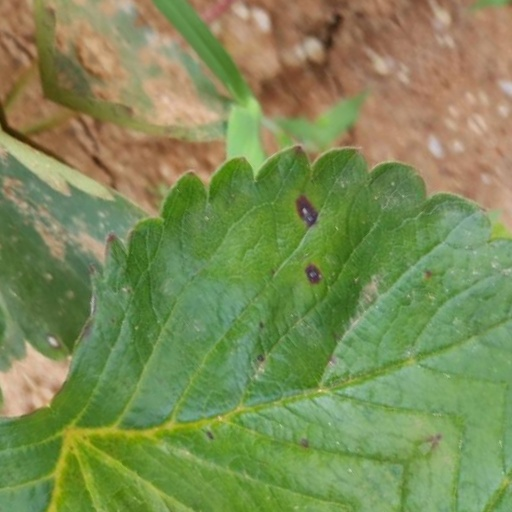Leaf Spot: (0, 146, 485, 511)
